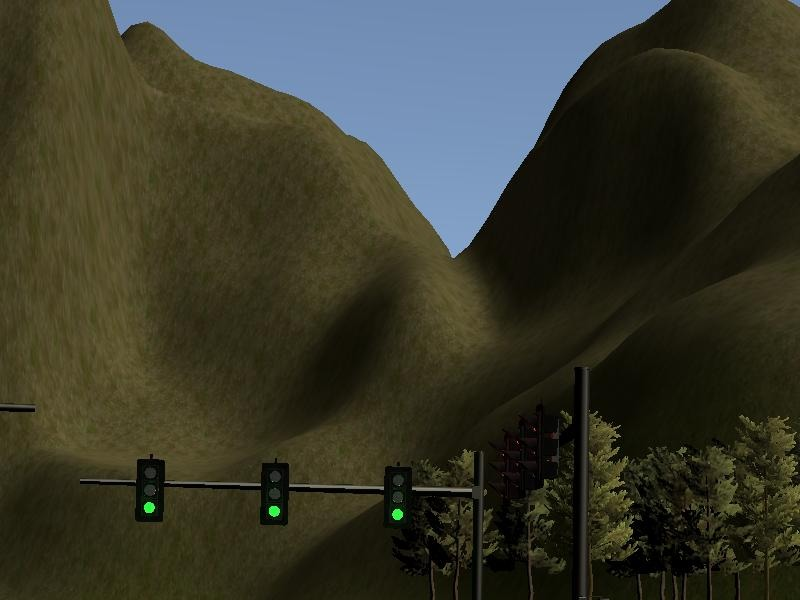green: (135, 460, 166, 523), (384, 468, 415, 531), (259, 464, 290, 527)
